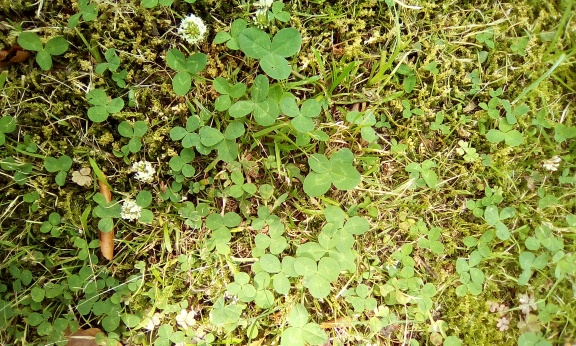4leaf: (302, 148, 362, 197)
